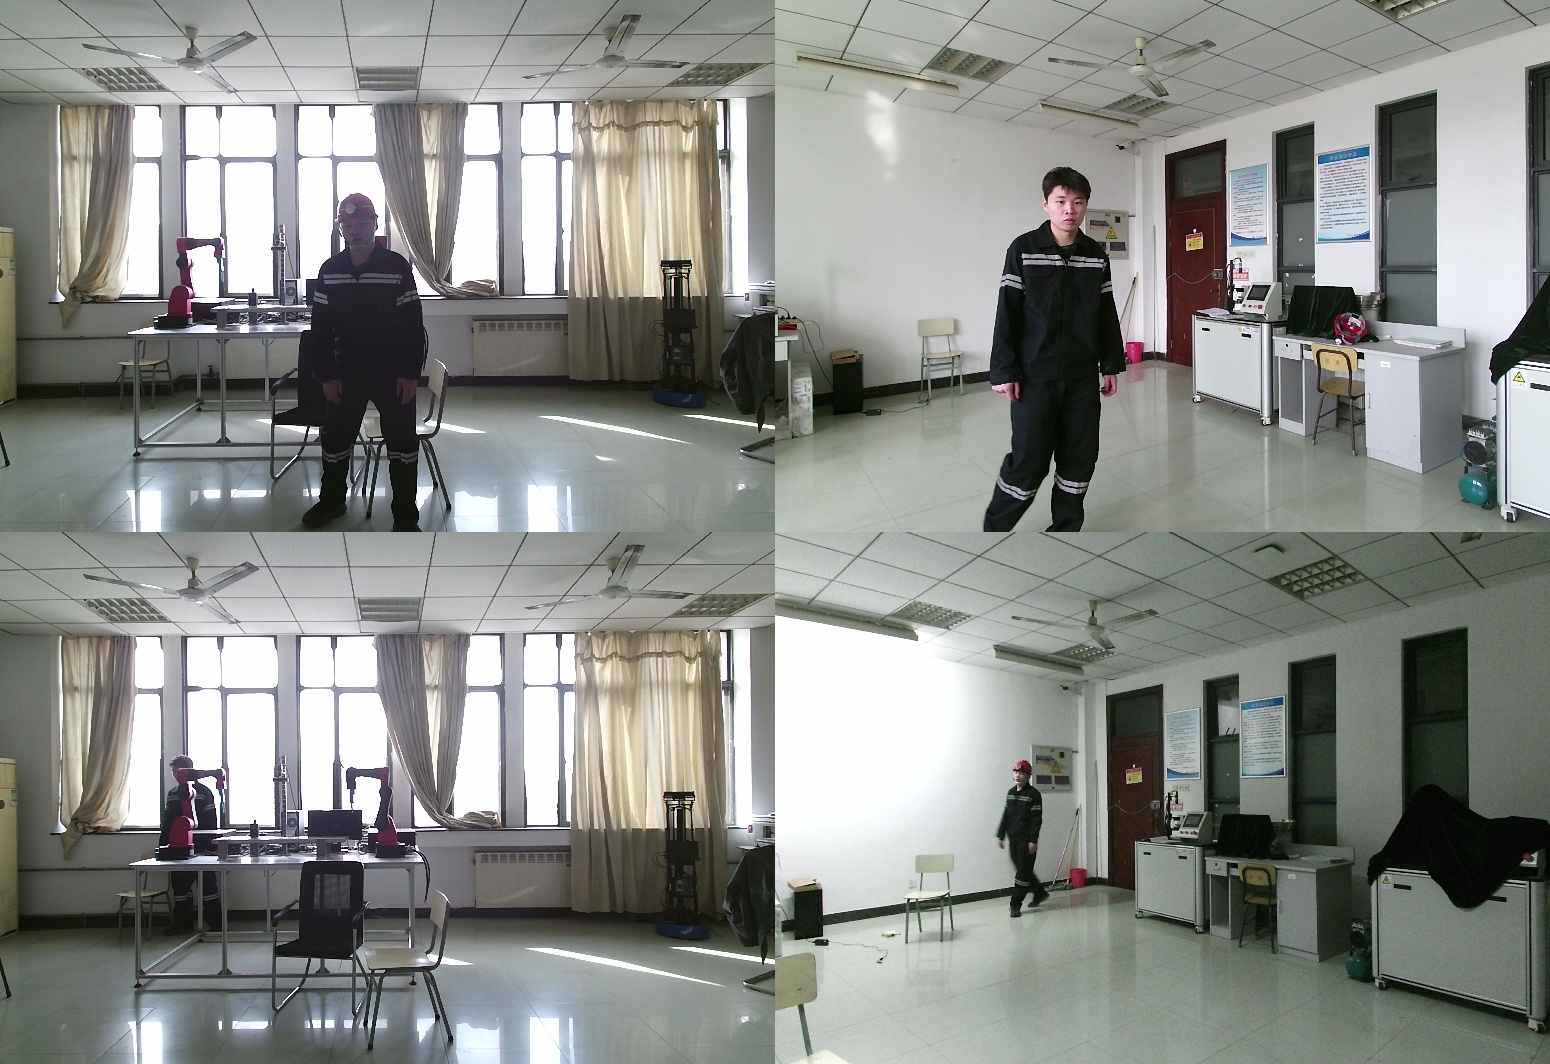person: (972, 167, 1122, 532), (303, 191, 440, 532), (157, 755, 226, 943), (1004, 763, 1050, 921)
